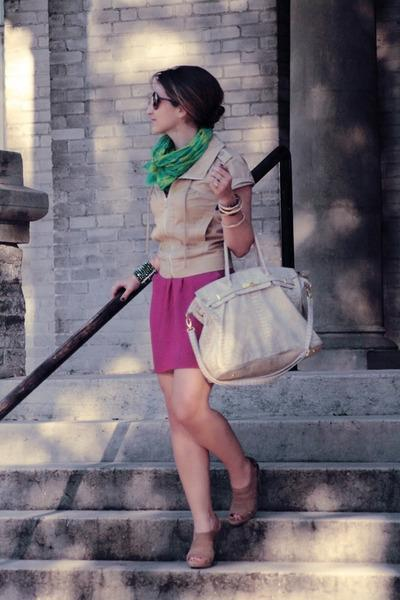bag: (186, 259, 320, 387)
shirt: (149, 139, 253, 277)
shoe: (166, 457, 275, 578)
skirt: (150, 268, 224, 376)
sunglass: (152, 84, 179, 109)
